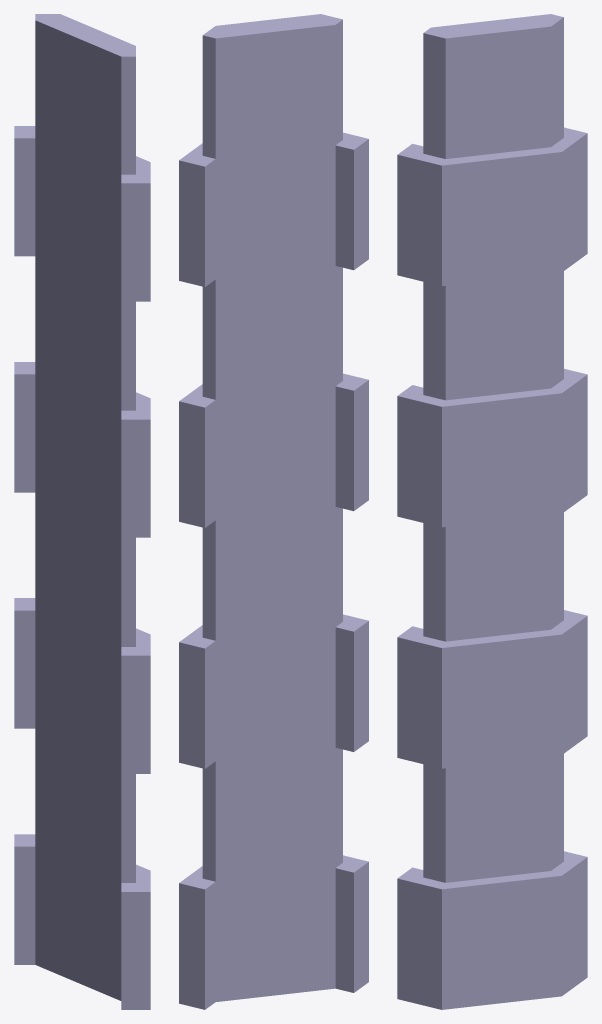
Rendered from quoin_diagonal.fbx.
3 views of the same model, side by side, from view 1: azimuth 90°, elevation 25°; view 2: azimuth 150°, elevation 25°; view 3: azimuth 330°, elevation 25° (orthographic). The views are drawn at different scales.
Visible parts, largest first — view 1: quoin_diagonal; view 2: quoin_diagonal; view 3: quoin_diagonal.
Part boxes in pixels (x1,y1,x2,y2): quoin_diagonal: (14, 14, 150, 1009); quoin_diagonal: (179, 14, 368, 1009); quoin_diagonal: (397, 14, 587, 1009).
Bounding box in the file's own units: 1.31 × 10 × 1.31.
